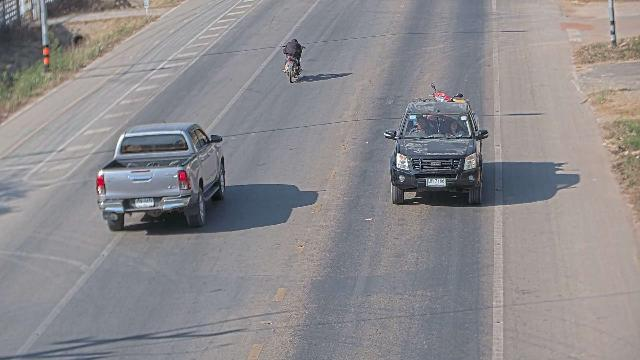motorcycle: (282, 40, 303, 84)
pickup-truck: (95, 121, 226, 231), (383, 83, 489, 205)
